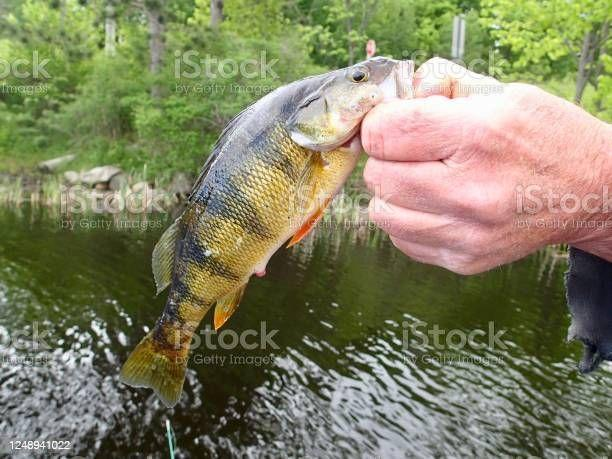Perch: (119, 55, 408, 406)
